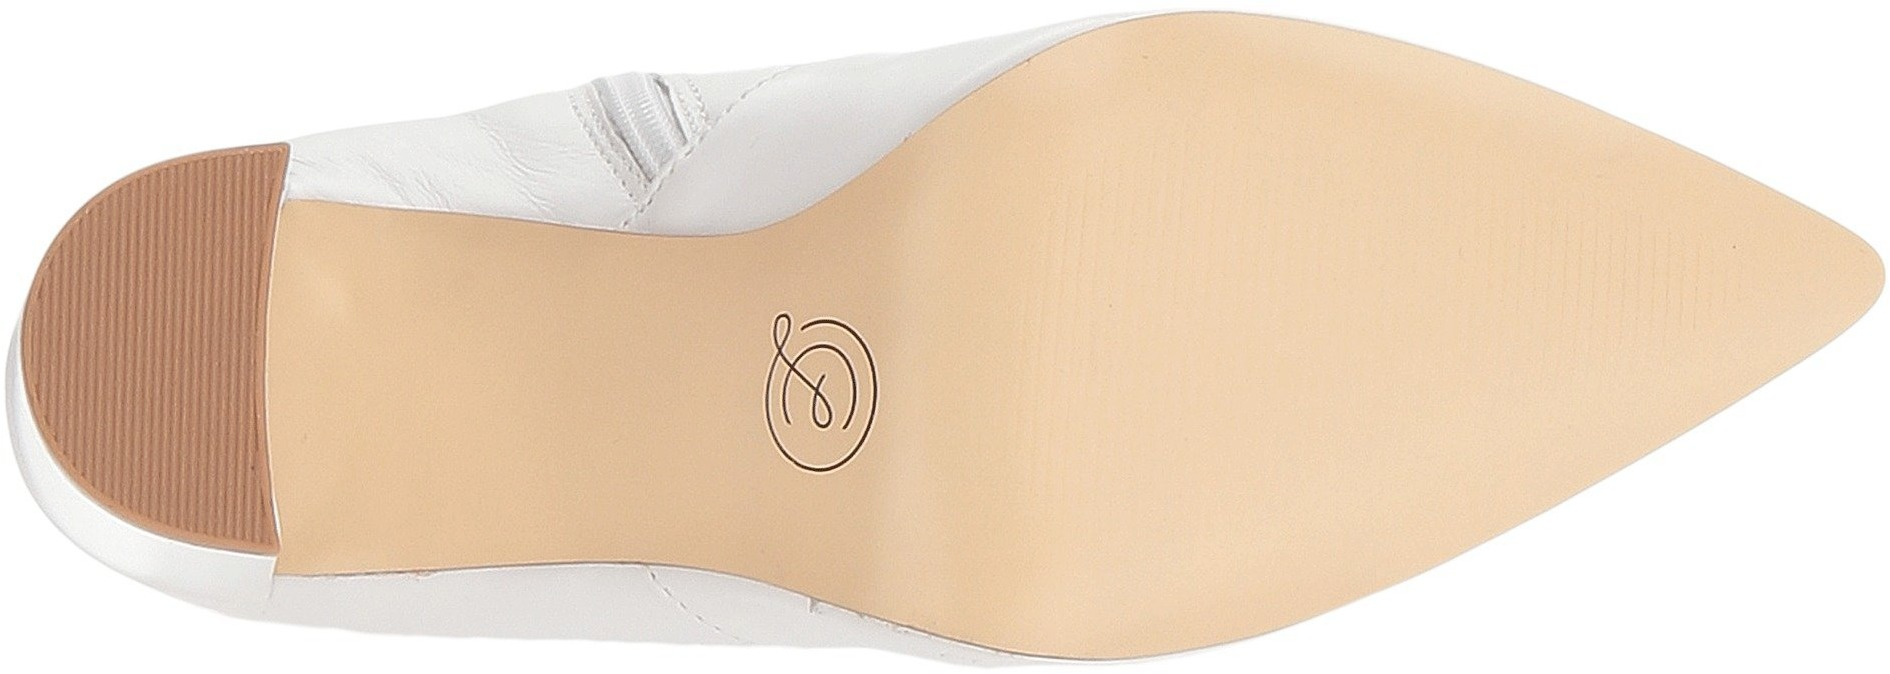exclude: (265, 11, 888, 661)
other: (941, 154, 1213, 477), (1227, 80, 1525, 326), (1229, 350, 1450, 541), (1530, 188, 1741, 382), (61, 251, 250, 450)
